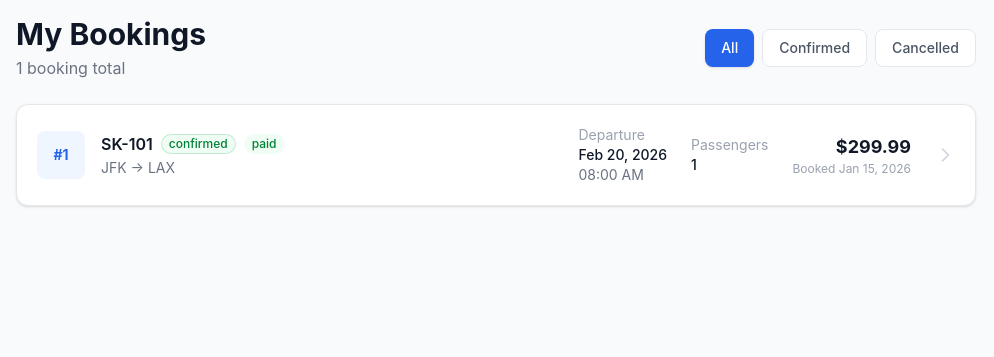
it: BookingsPage › shows "No cancelled bookings" when filter returns empty
Expected: the heading "My Bookings" is shown, [16,16,206,52]
Click the button "Cancelled".
click(926, 48)  # box [875,29,976,67]
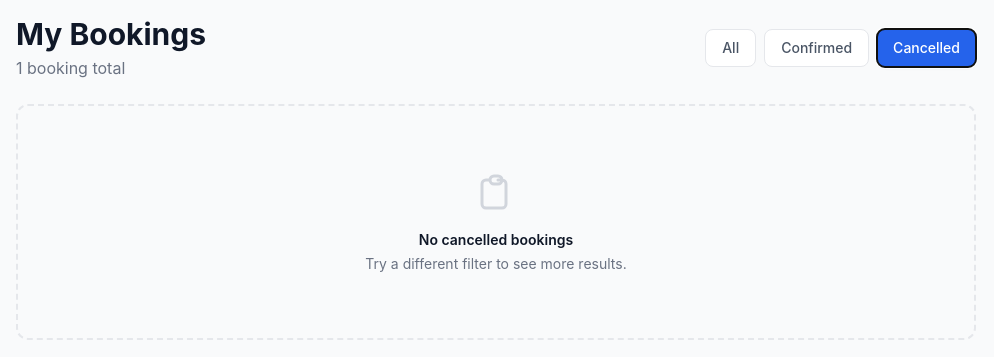
Expected: the heading "No cancelled bookings" is shown, [419,231,573,248]
